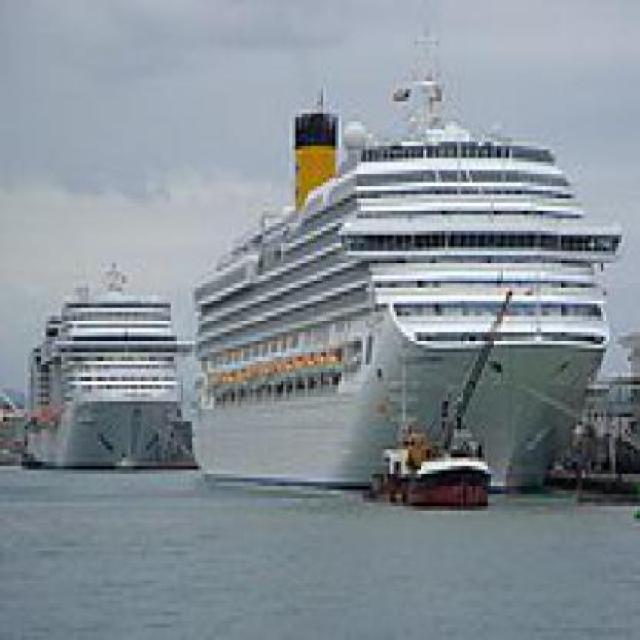cruise: (187, 25, 629, 503), (17, 248, 200, 479)
